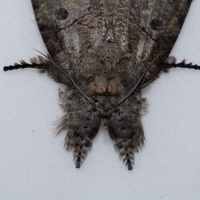insect: (36, 1, 179, 67), (108, 98, 131, 132)
